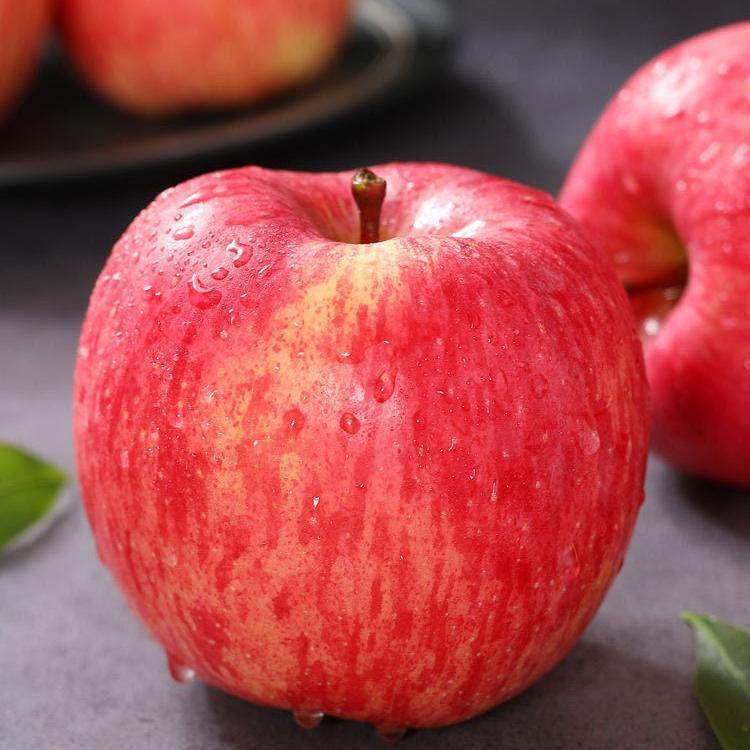apple: (64, 160, 648, 724), (559, 17, 750, 481), (52, 1, 345, 117)
